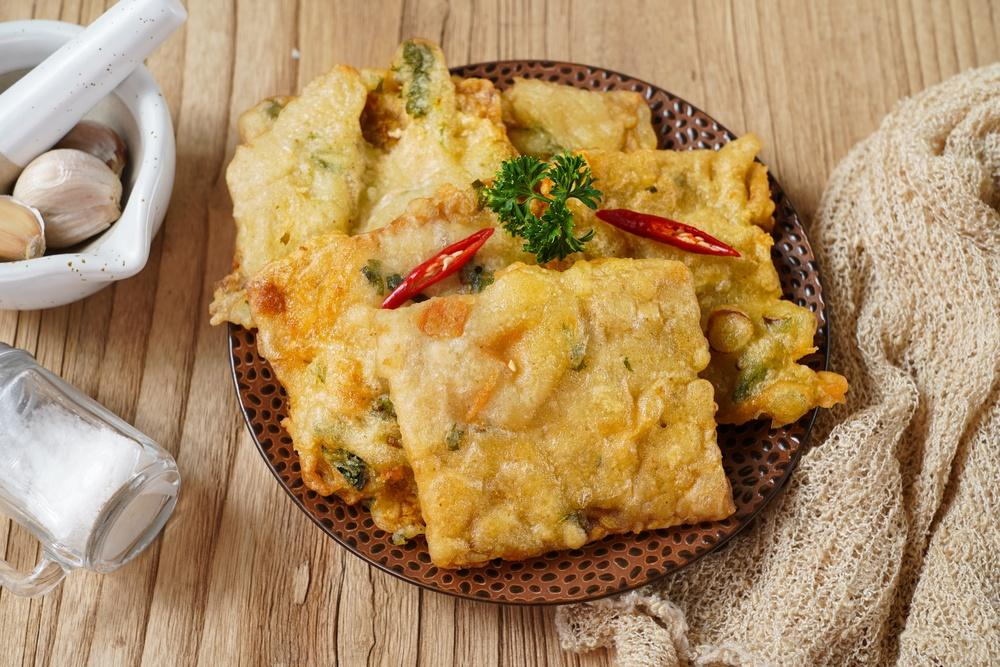kacang_legume: (446, 315, 688, 519), (243, 124, 469, 233), (303, 280, 376, 470), (692, 284, 782, 396), (542, 105, 634, 156)
